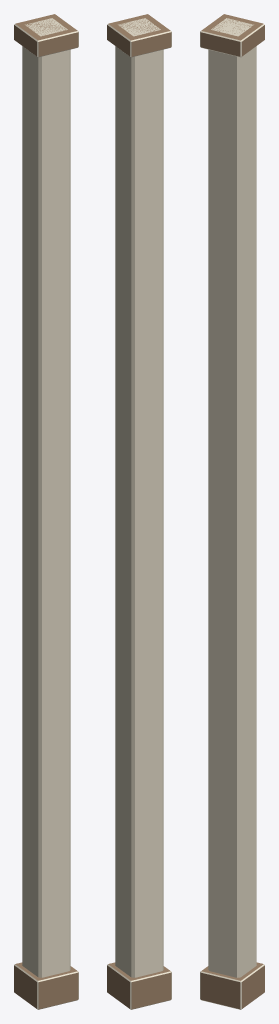
File: esquinero_400.glb
3 renders of one model, left to right at view 1: azimuth 30°, elevation 25°; view 2: azimuth 210°, elevation 25°; view 3: azimuth 330°, elevation 25°, orthographic.
Visible parts, largest first — view 1: esquinero_400; view 2: esquinero_400; view 3: esquinero_400.
Part boxes in pixels (<box>): esquinero_400: <box>14,14,78,1009</box>; esquinero_400: <box>107,14,171,1009</box>; esquinero_400: <box>200,14,264,1009</box>.
Bounding box in the file's own units: 0.18 × 4 × 0.18.
